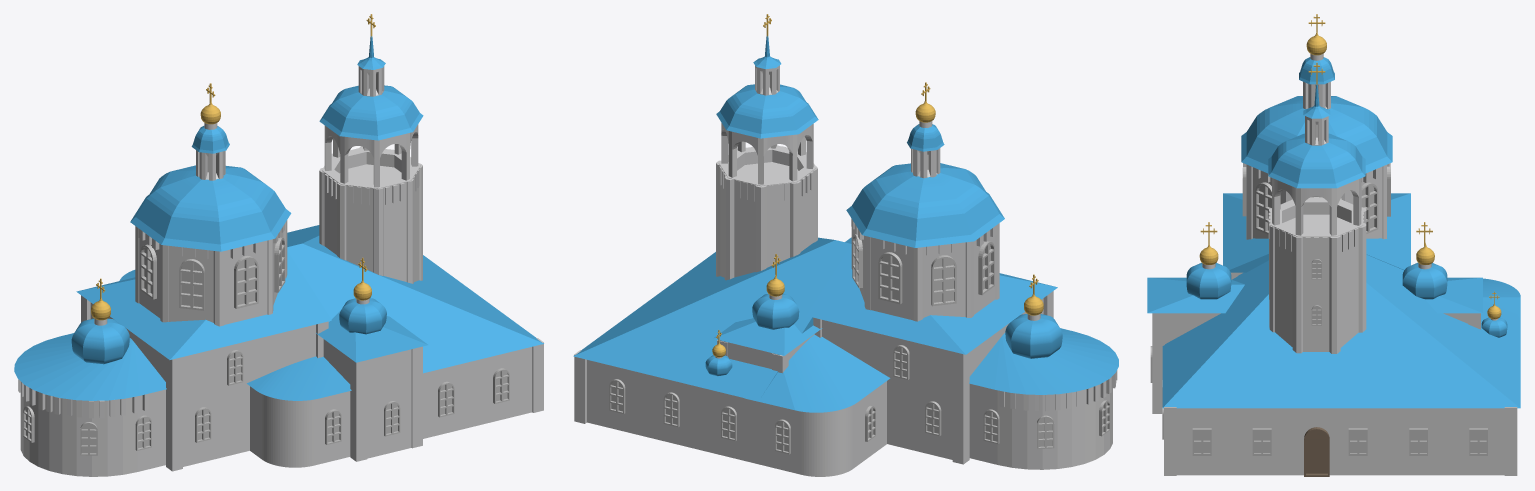
Rendered from spasskiy3.glb.
3 views of the same model, side by side, from view 1: azimuth 30°, elevation 25°; view 2: azimuth 150°, elevation 25°; view 3: azimuth 270°, elevation 25° (orthographic). The views are drawn at different scales.
Parts seen in each view (by area): view 1: Cube.105, Cube.008, Cylinder.004, Cube.082, Cube.021, Cylinder.015, Cube.011; view 2: Cube.008, Cube.105, Cylinder.004, Cube.082, Cube.021, Cylinder.015, Cube.011; view 3: Cube.008, Cube.105, Cube.082, Cylinder.004, Cube.021, Cylinder.015, Cube.011, Cube.098, Cube.070.
Boxes of the visible parts, x1,y1,x2,y2 form: Cube.105: (18,295,543,476); Cube.008: (14,225,543,400); Cylinder.004: (71,36,423,364); Cube.082: (319,66,422,283); Cube.021: (23,237,509,455); Cylinder.015: (135,123,287,326); Cube.011: (91,14,375,320); Cube.008: (573,237,1118,412); Cube.105: (574,291,1117,476); Cylinder.004: (705,36,1062,376); Cube.082: (716,65,817,280); Cube.021: (609,234,1110,454); Cylinder.015: (851,121,999,321); Cube.011: (712,14,1043,357); Cube.008: (1147,193,1520,408); Cube.105: (1152,272,1517,475); Cube.082: (1268,116,1366,353); Cylinder.004: (1186,57,1507,337); Cube.021: (1150,163,1487,455); Cylinder.015: (1243,53,1389,239); Cube.011: (1199,14,1501,319); Cube.098: (1304,427,1329,476); Cube.070: (1275,408,1343,424).
Size of the model in its own units: 4.12 by 3.21 by 2.97.
